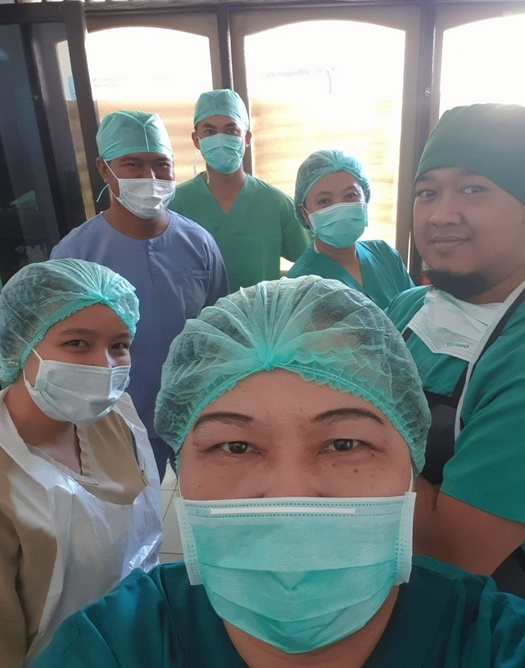mouth: (423, 232, 472, 253)
nose: (426, 214, 460, 227)
